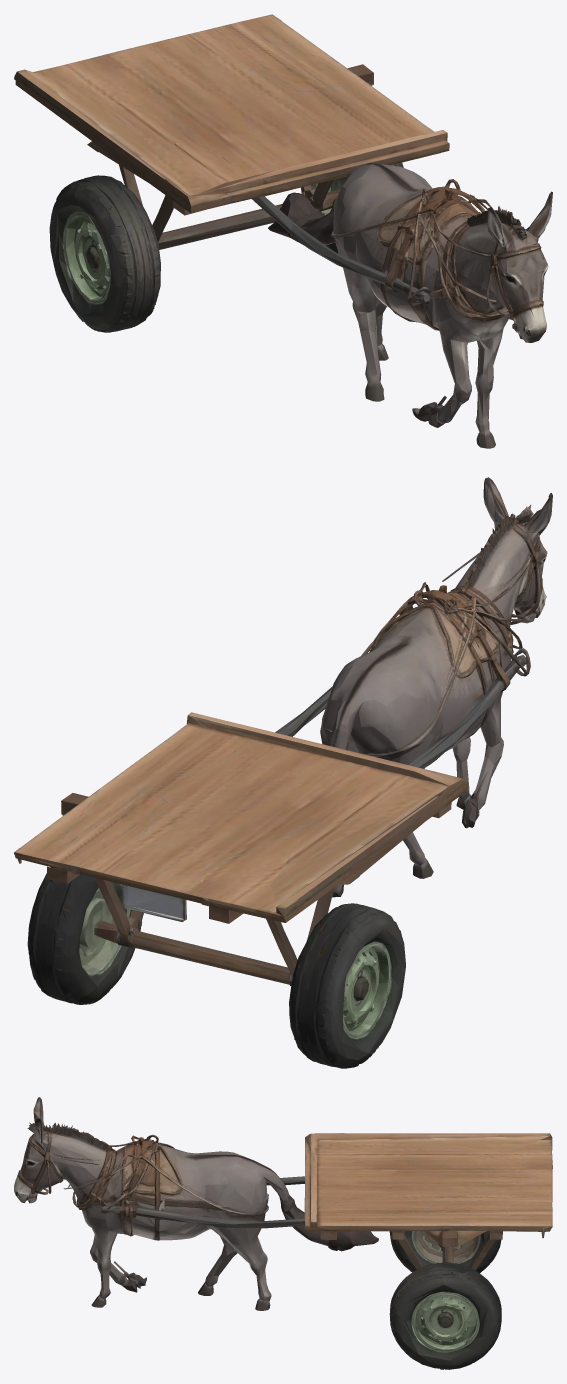
The model's file is karo-2.glb.
3 views of the same model, one above another, from view 1: azimuth 30°, elevation 25°; view 2: azimuth 150°, elevation 25°; view 3: azimuth 270°, elevation 25° (orthographic). The views are drawn at different scales.
Visible parts, largest first — view 1: body, wheel_r; view 2: body, wheel_r, wheel_l; view 3: body, wheel_l, wheel_r.
Boxes of the visible parts, x1,y1,x2,y2 form: body: (14,14,552,448); wheel_r: (54,226,115,332); body: (14,477,552,1067); wheel_r: (337,956,405,1068); wheel_l: (77,888,135,1003); body: (14,1097,552,1365); wheel_l: (400,1296,486,1369); wheel_r: (404,1231,492,1271).
Bounding box in the file's own units: 0.8454 × 0.8389 × 1.9.
Materials: 1 (1 with a texture image).
